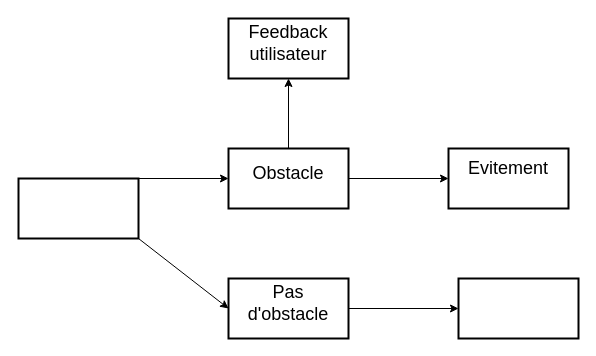
Image size: 596x356. Some labels were removed from this diagram. The centre of each missing label's shape, as x and y in pixels:
"Arrivée" belongs at point 518,308.
"Guidage automatique" belongs at point 78,208.
